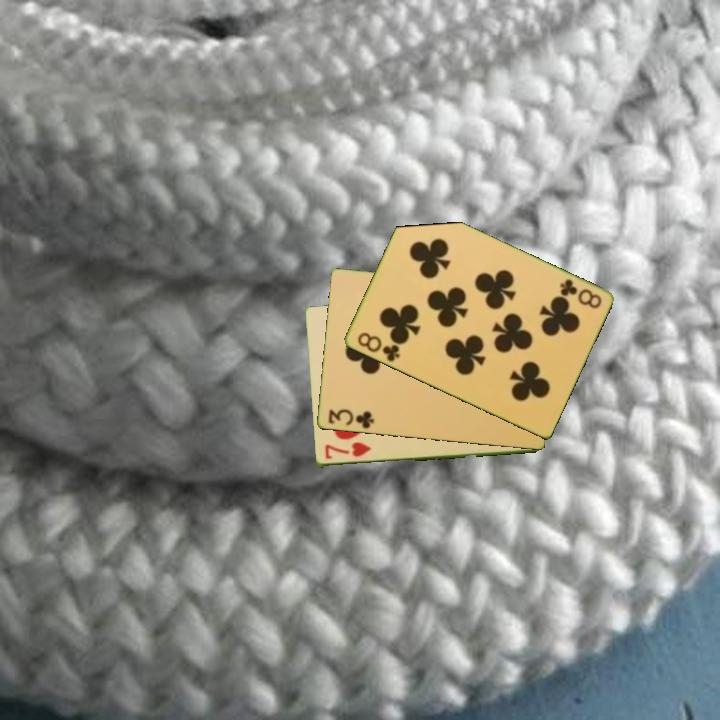3c: (325, 406, 377, 432)
7h: (321, 439, 374, 462)
8c: (353, 329, 403, 365), (556, 275, 604, 312)
